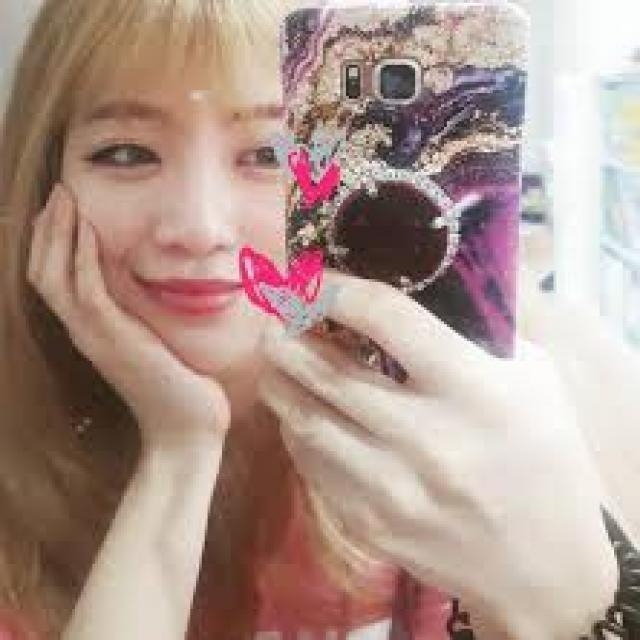Phone: (276, 2, 521, 374)
